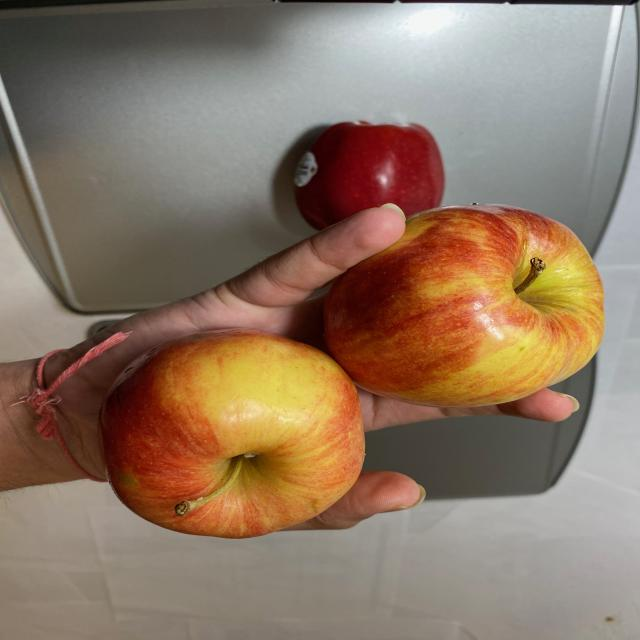apple: (103, 202, 606, 540), (285, 120, 465, 227)
